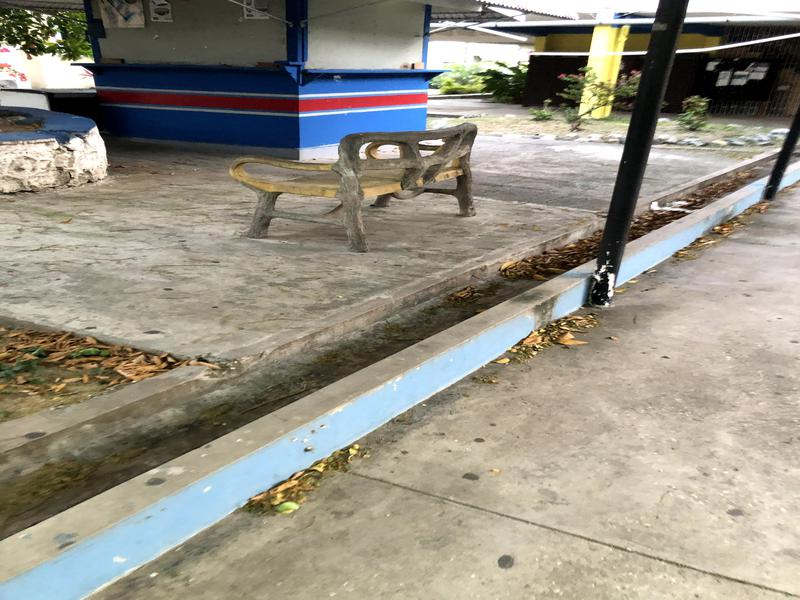18.0050864_-76.7496363_bench: (216, 109, 494, 263)
